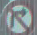Don't turn right: (2, 0, 35, 34)
